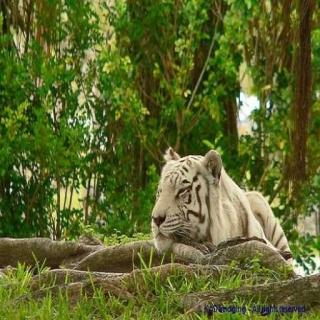Tiger: (140, 144, 298, 264)
